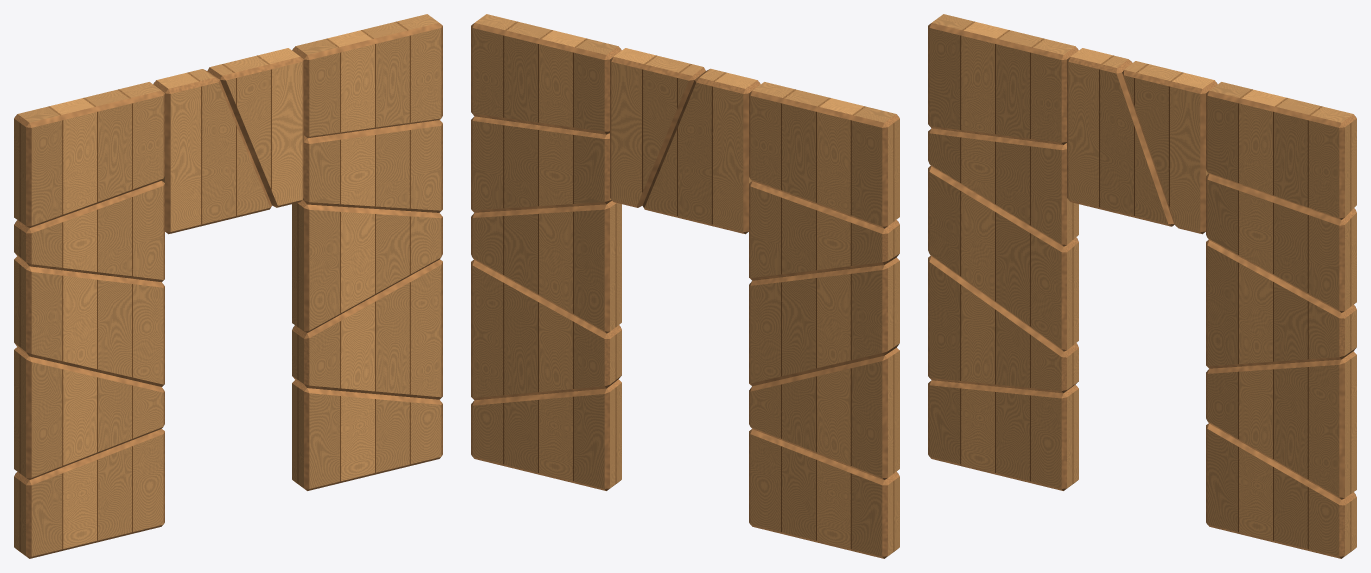
The model's file is Kit_Wood_WallDoor_Fractured.fbx.
3 views of the same model, side by side, from view 1: azimuth 30°, elevation 25°; view 2: azimuth 150°, elevation 25°; view 3: azimuth 330°, elevation 25° (orthographic).
Parts seen in each view (by area): view 1: Kit_Wood_WallDoor_frag_05, Kit_Wood_WallDoor_frag_03, Kit_Wood_WallDoor_frag_07, Kit_Wood_WallDoor_frag_10, Kit_Wood_WallDoor_frag_08, Kit_Wood_WallDoor_frag_01, Kit_Wood_WallDoor_frag_02, Kit_Wood_WallDoor_frag_06, Kit_Wood_WallDoor_frag_11, Kit_Wood_WallDoor_frag_09, Kit_Wood_WallDoor_frag_04, Kit_Wood_WallDoor_frag_12; view 2: Kit_Wood_WallDoor_frag_05, Kit_Wood_WallDoor_frag_03, Kit_Wood_WallDoor_frag_07, Kit_Wood_WallDoor_frag_08, Kit_Wood_WallDoor_frag_10, Kit_Wood_WallDoor_frag_01, Kit_Wood_WallDoor_frag_02, Kit_Wood_WallDoor_frag_06, Kit_Wood_WallDoor_frag_11, Kit_Wood_WallDoor_frag_09, Kit_Wood_WallDoor_frag_04, Kit_Wood_WallDoor_frag_12; view 3: Kit_Wood_WallDoor_frag_07, Kit_Wood_WallDoor_frag_10, Kit_Wood_WallDoor_frag_05, Kit_Wood_WallDoor_frag_03, Kit_Wood_WallDoor_frag_01, Kit_Wood_WallDoor_frag_08, Kit_Wood_WallDoor_frag_11, Kit_Wood_WallDoor_frag_09, Kit_Wood_WallDoor_frag_02, Kit_Wood_WallDoor_frag_06, Kit_Wood_WallDoor_frag_04, Kit_Wood_WallDoor_frag_12.
Part boxes in pixels (box(x1,y1,x2,y2)): Kit_Wood_WallDoor_frag_05: box(14, 82, 164, 228); Kit_Wood_WallDoor_frag_03: box(14, 256, 164, 386); Kit_Wood_WallDoor_frag_07: box(292, 259, 442, 399); Kit_Wood_WallDoor_frag_10: box(292, 14, 442, 138); Kit_Wood_WallDoor_frag_08: box(292, 201, 442, 332); Kit_Wood_WallDoor_frag_01: box(14, 429, 164, 558); Kit_Wood_WallDoor_frag_02: box(14, 347, 164, 479); Kit_Wood_WallDoor_frag_06: box(292, 380, 442, 490); Kit_Wood_WallDoor_frag_11: box(153, 69, 271, 234); Kit_Wood_WallDoor_frag_09: box(302, 120, 442, 212); Kit_Wood_WallDoor_frag_04: box(14, 181, 164, 282); Kit_Wood_WallDoor_frag_12: box(207, 48, 303, 207); Kit_Wood_WallDoor_frag_05: box(749, 82, 899, 228); Kit_Wood_WallDoor_frag_03: box(749, 257, 899, 386); Kit_Wood_WallDoor_frag_07: box(471, 260, 621, 400); Kit_Wood_WallDoor_frag_08: box(471, 201, 621, 333); Kit_Wood_WallDoor_frag_10: box(471, 14, 621, 134); Kit_Wood_WallDoor_frag_01: box(749, 429, 899, 558); Kit_Wood_WallDoor_frag_02: box(749, 347, 899, 479); Kit_Wood_WallDoor_frag_06: box(471, 379, 621, 490); Kit_Wood_WallDoor_frag_11: box(642, 68, 760, 234); Kit_Wood_WallDoor_frag_09: box(471, 116, 611, 212); Kit_Wood_WallDoor_frag_04: box(749, 181, 899, 280); Kit_Wood_WallDoor_frag_12: box(610, 48, 705, 207); Kit_Wood_WallDoor_frag_07: box(1206, 351, 1356, 499); Kit_Wood_WallDoor_frag_10: box(1206, 82, 1356, 219); Kit_Wood_WallDoor_frag_05: box(928, 14, 1078, 144); Kit_Wood_WallDoor_frag_03: box(928, 166, 1078, 351); Kit_Wood_WallDoor_frag_01: box(928, 380, 1078, 490); Kit_Wood_WallDoor_frag_08: box(1206, 240, 1356, 368); Kit_Wood_WallDoor_frag_11: box(1067, 48, 1174, 226); Kit_Wood_WallDoor_frag_09: box(1206, 173, 1356, 312); Kit_Wood_WallDoor_frag_02: box(928, 255, 1078, 393); Kit_Wood_WallDoor_frag_06: box(1206, 423, 1356, 558); Kit_Wood_WallDoor_frag_04: box(928, 128, 1078, 246); Kit_Wood_WallDoor_frag_12: box(1122, 61, 1217, 234).
Size of what is drawn, in the model's own units: 3 by 3 by 0.2.
2 materials, 2 textured.
